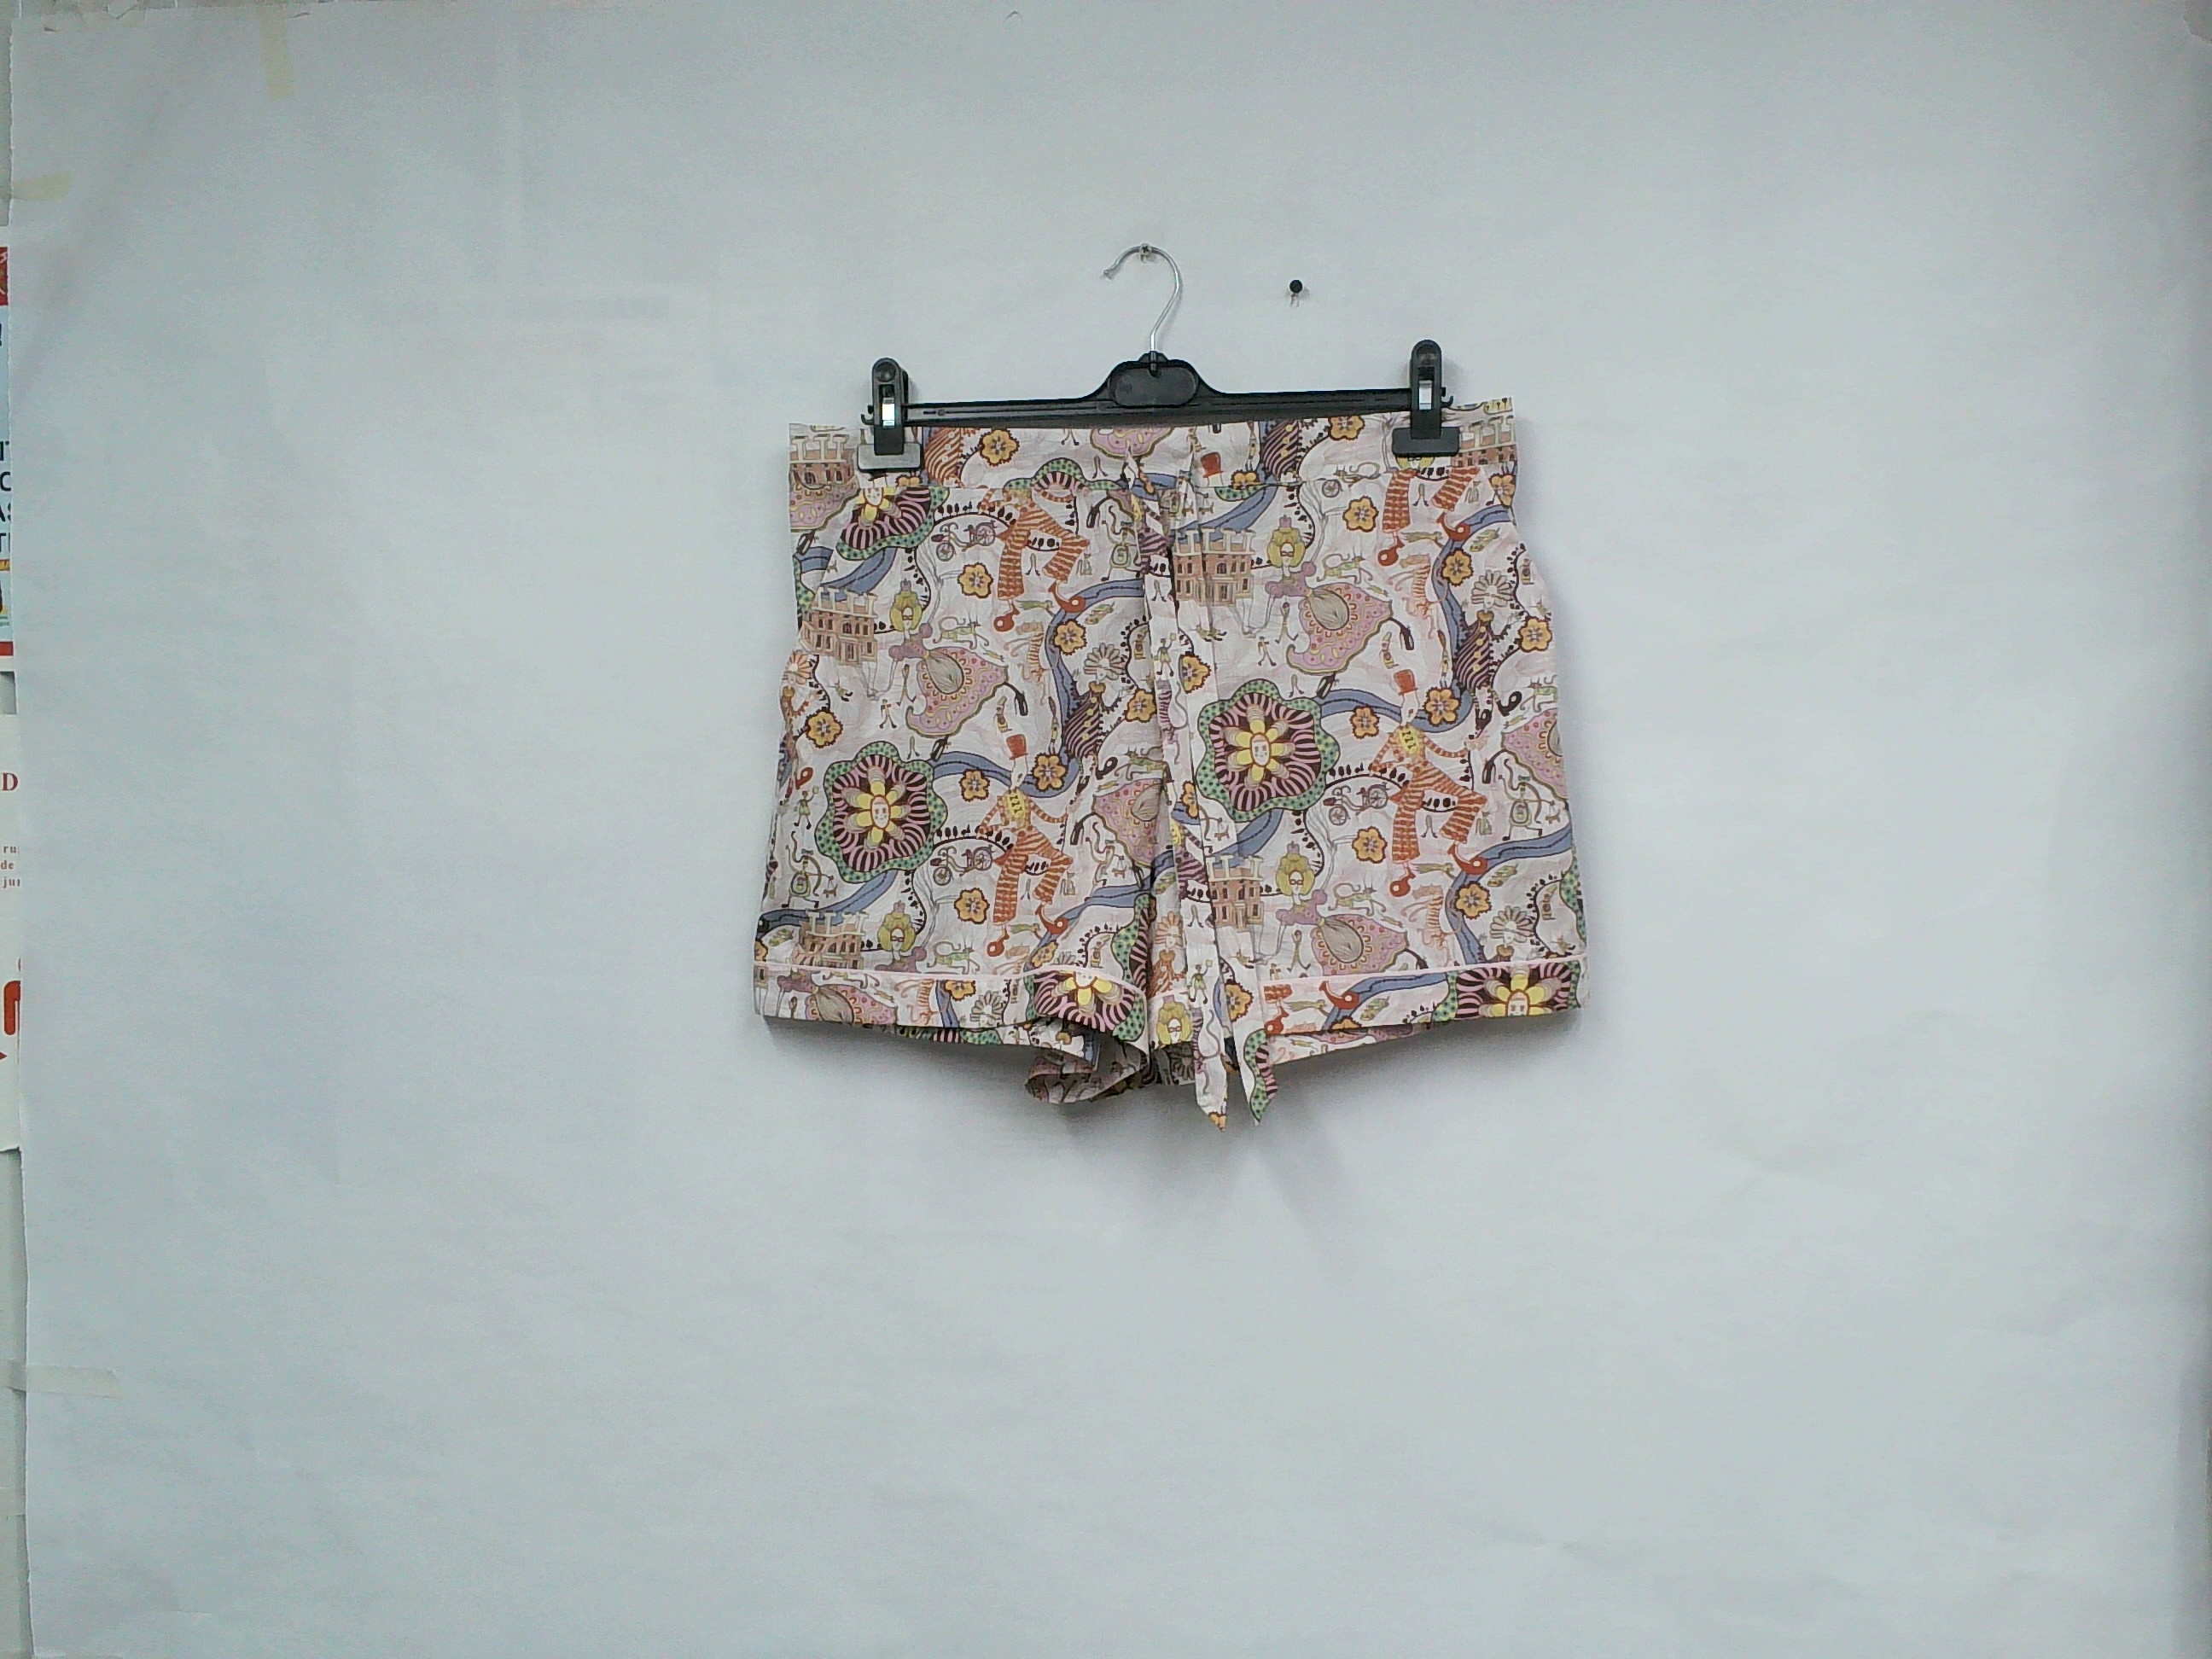seam: (1268, 932, 1569, 1000)
